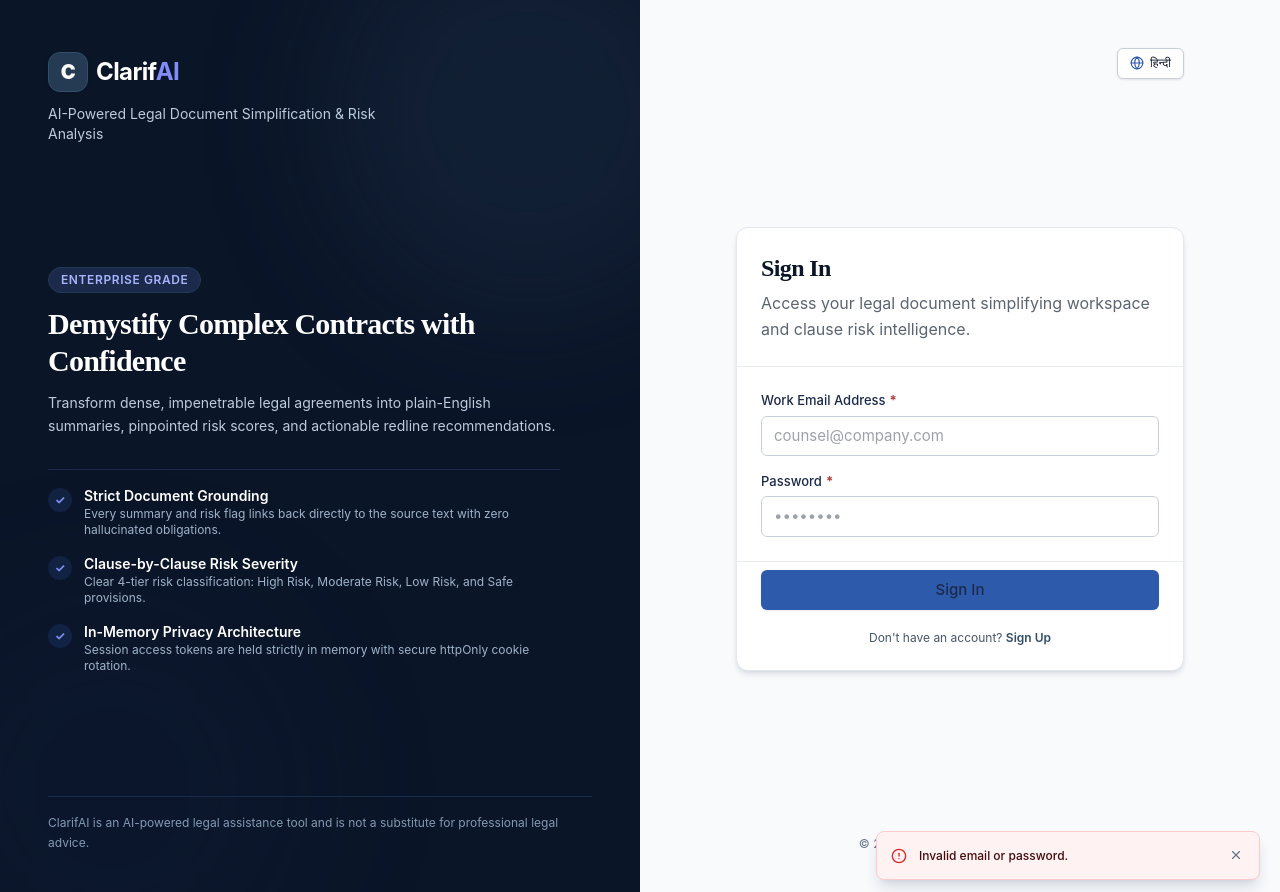
Test: Auth Pages (PRD Section 8.1, Ch. 10/11, Ch. 22.2/22.3, Ch. 31) › LoginPage › authenticates valid credentials, updates authStore, and navigates to Dashboard
Type "counsel@clarifai.internal" into the field labelled "Work Email Address *" at (960, 436), box [761,416,1159,456]
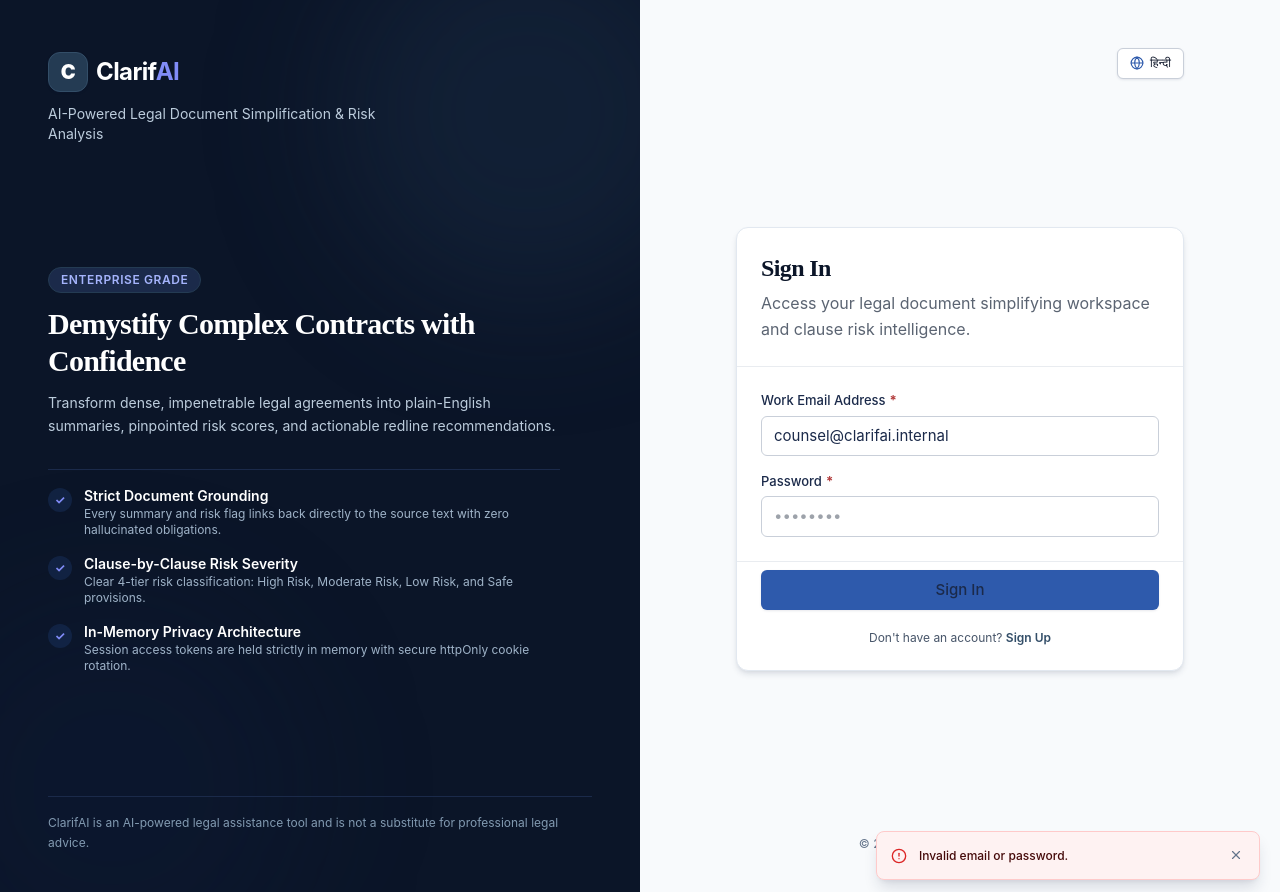
Type "Password123!" into the password field labelled "Password *" at (960, 517), box [761,496,1159,537]
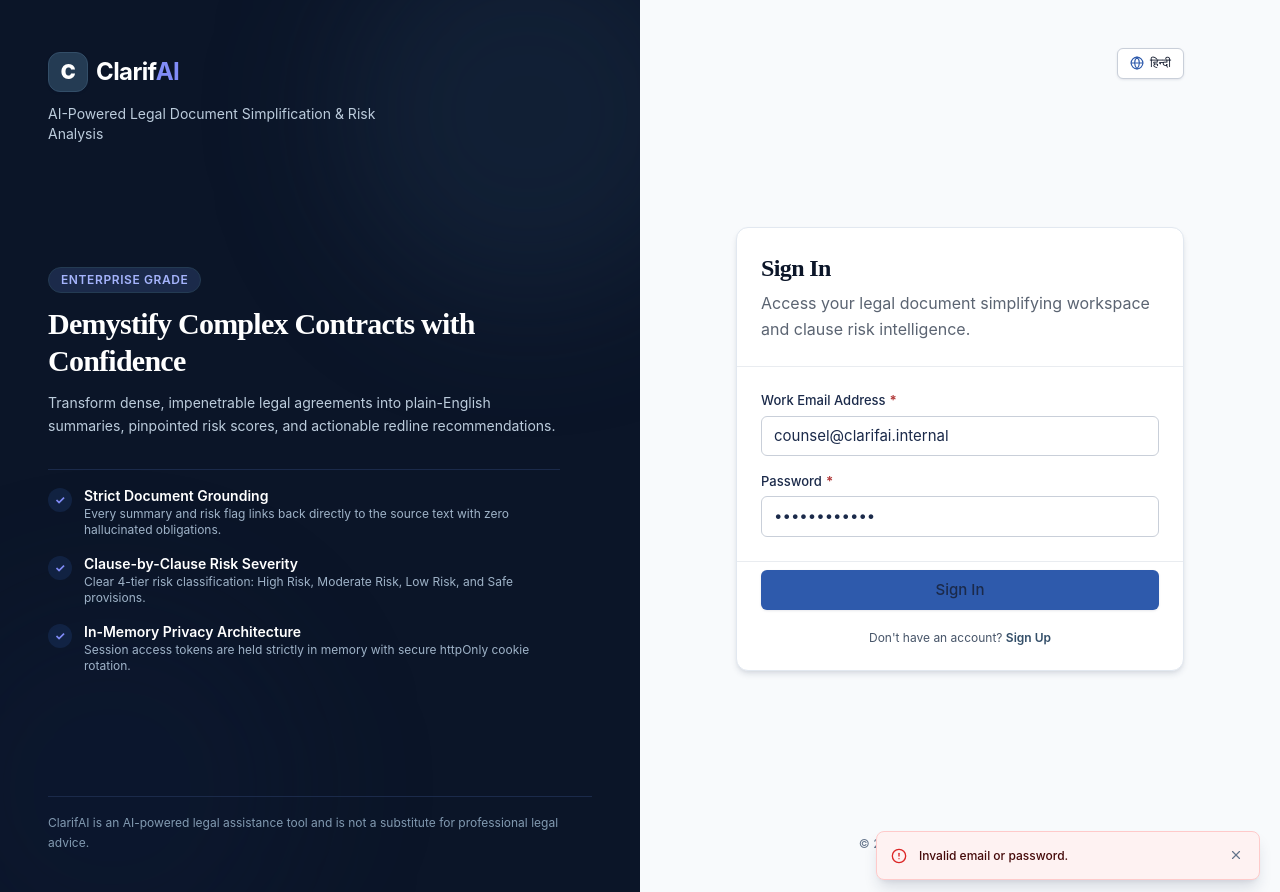
Click the button "Sign In" at (960, 590), box [761,570,1159,610]
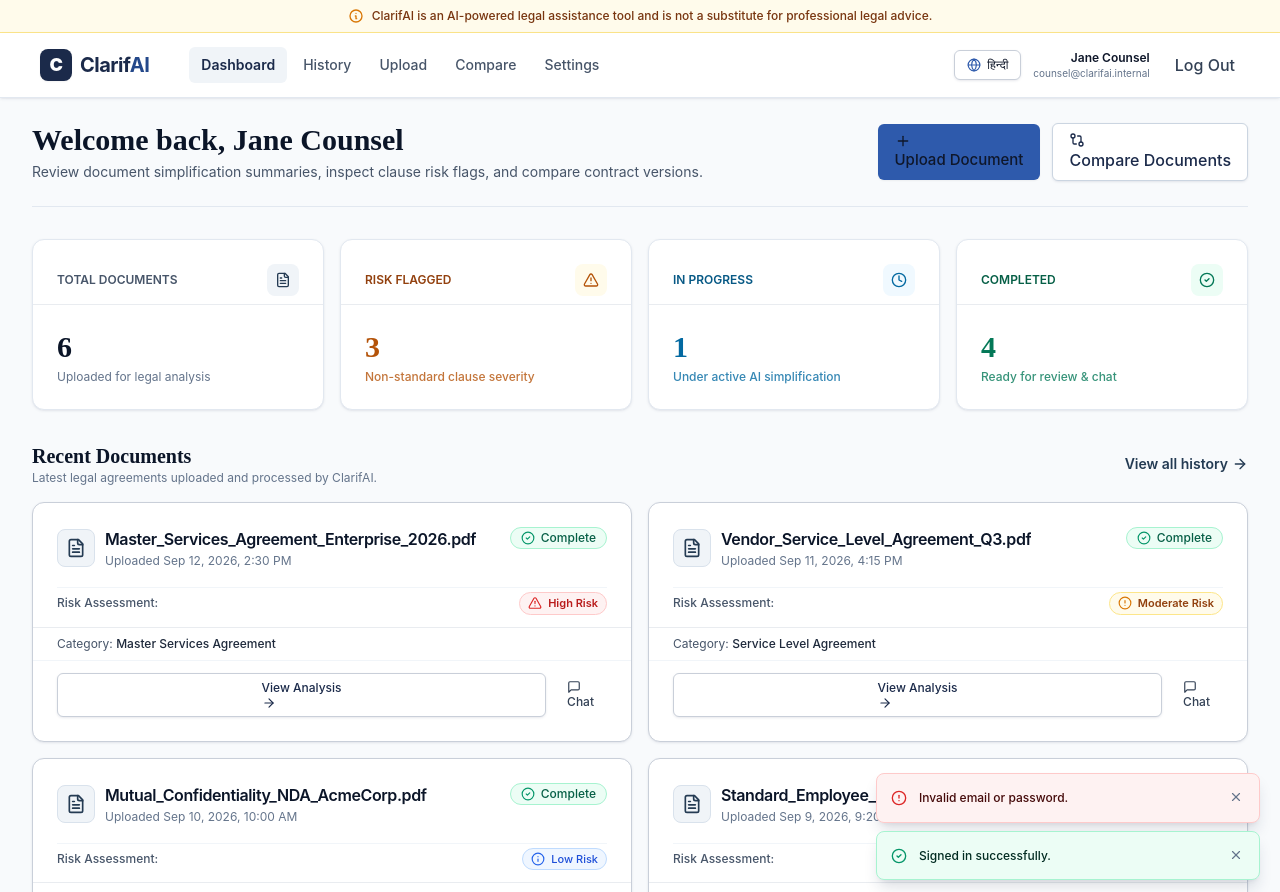
Expected: the heading "Welcome back, Jane Counsel" is shown, [32,123,404,156]
Expected: the text "counsel@clarifai.internal" is shown, [1033,66,1150,80]
